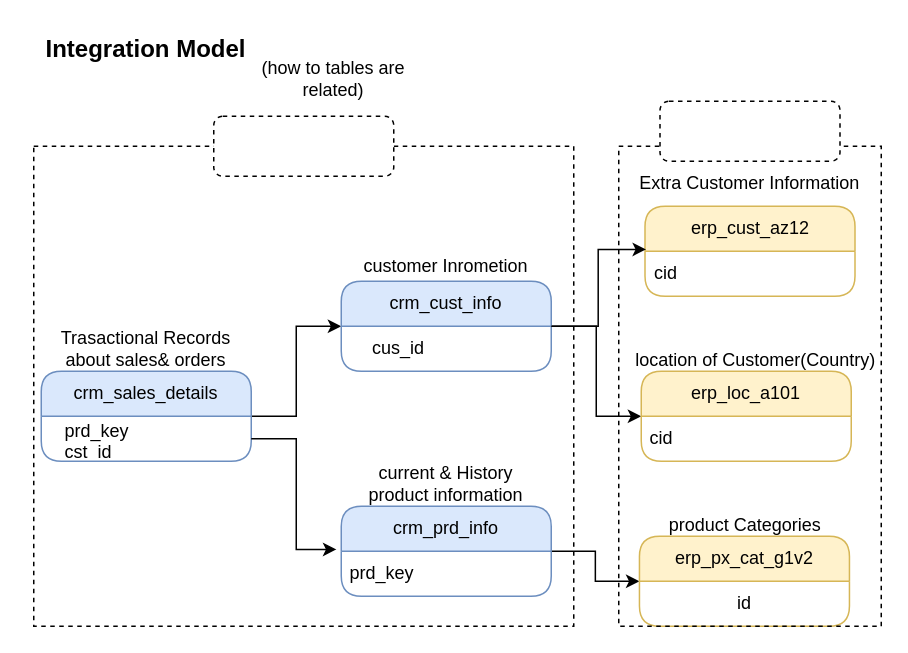
Image size: 908x653. Some labels were removed from this diagram. Here are the shapes that lost their labels. From the top down, the centre of each, then its label:
pixel 303 145: CRM
pixel 749 130: ERP
